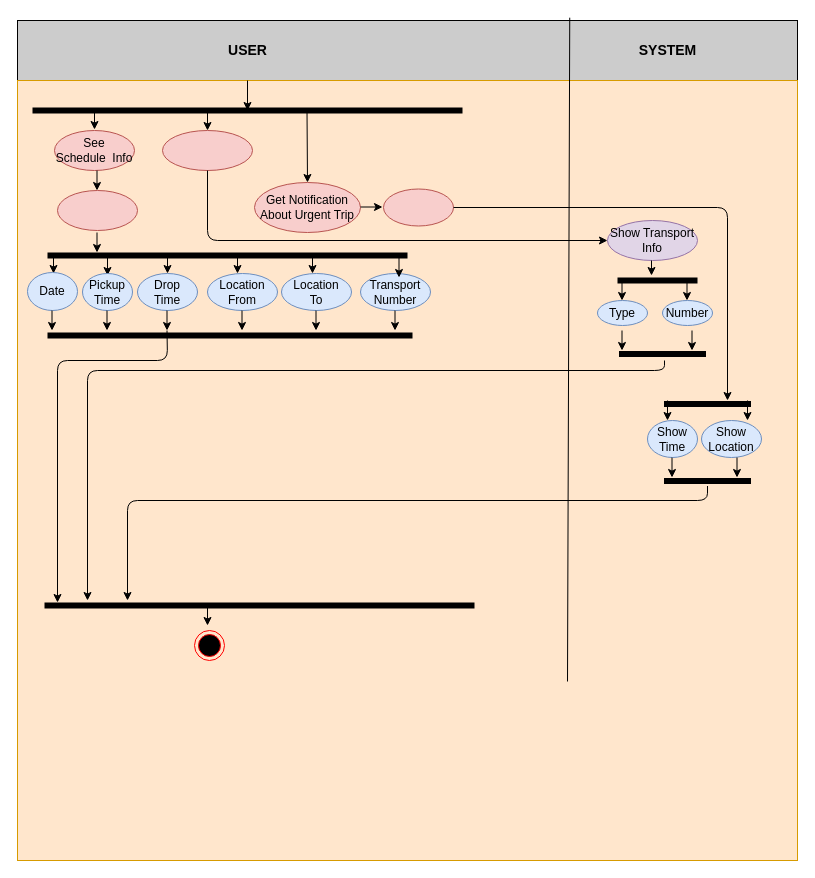
This 815x878 diagram has some shape labels left out. The shapes that lost their labels are listed below. From the top down, each one's centre as x and y in pixels, then its label:
At [207,150]: "See Transport Info".
At [97,210]: "Click on Regular Trip Info".
At [418,207]: "Click on That".
